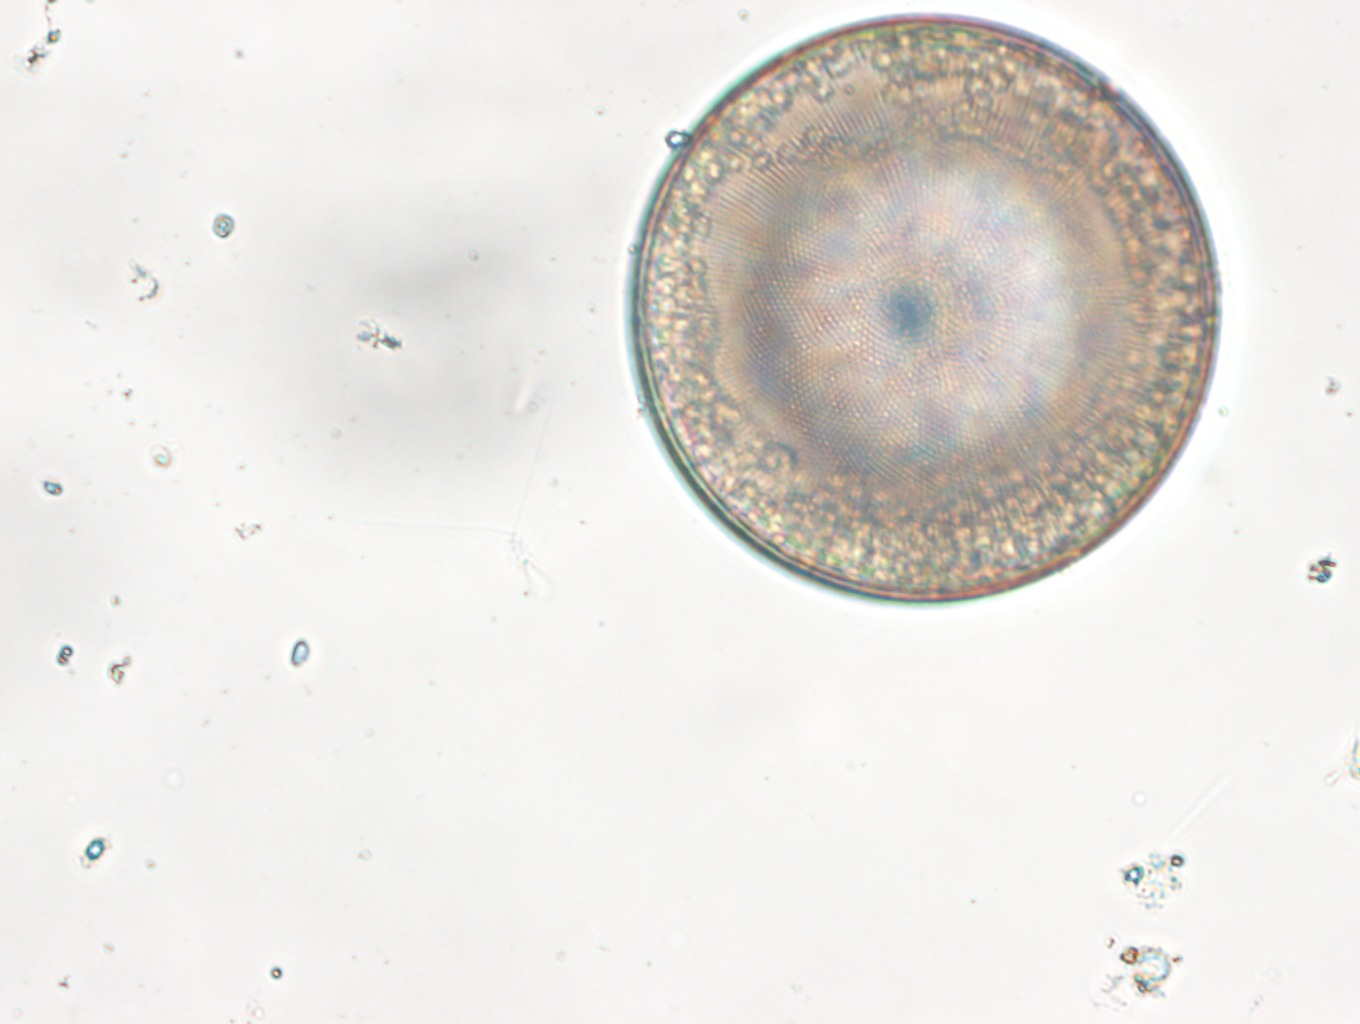coscinodiscus: (622, 9, 1220, 608)
